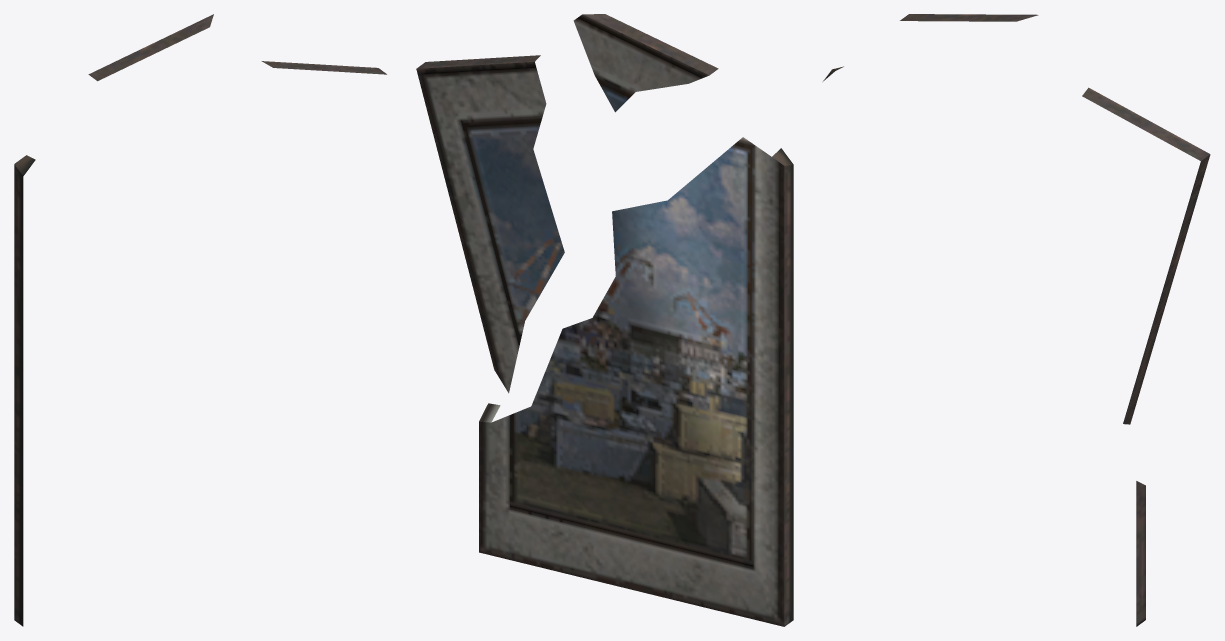
Rendered from Prop_PaintB2.glb.
3 views of the same model, side by side, from view 1: azimuth 30°, elevation 25°; view 2: azimuth 150°, elevation 25°; view 3: azimuth 330°, elevation 25° (orthographic). The views are drawn at different scales.
Visible parts, largest first — view 1: xiutz_paint_b2; view 2: xiutz_paint_b2; view 3: xiutz_paint_b2.
Boxes of the visible parts, x1,y1,x2,y2 form: xiutz_paint_b2: [14, 14, 386, 626]; xiutz_paint_b2: [416, 14, 793, 626]; xiutz_paint_b2: [823, 14, 1210, 626].
Size of the model in its own units: 0.793 by 1.16 by 0.0349.
Materials: 1 (1 with a texture image).
